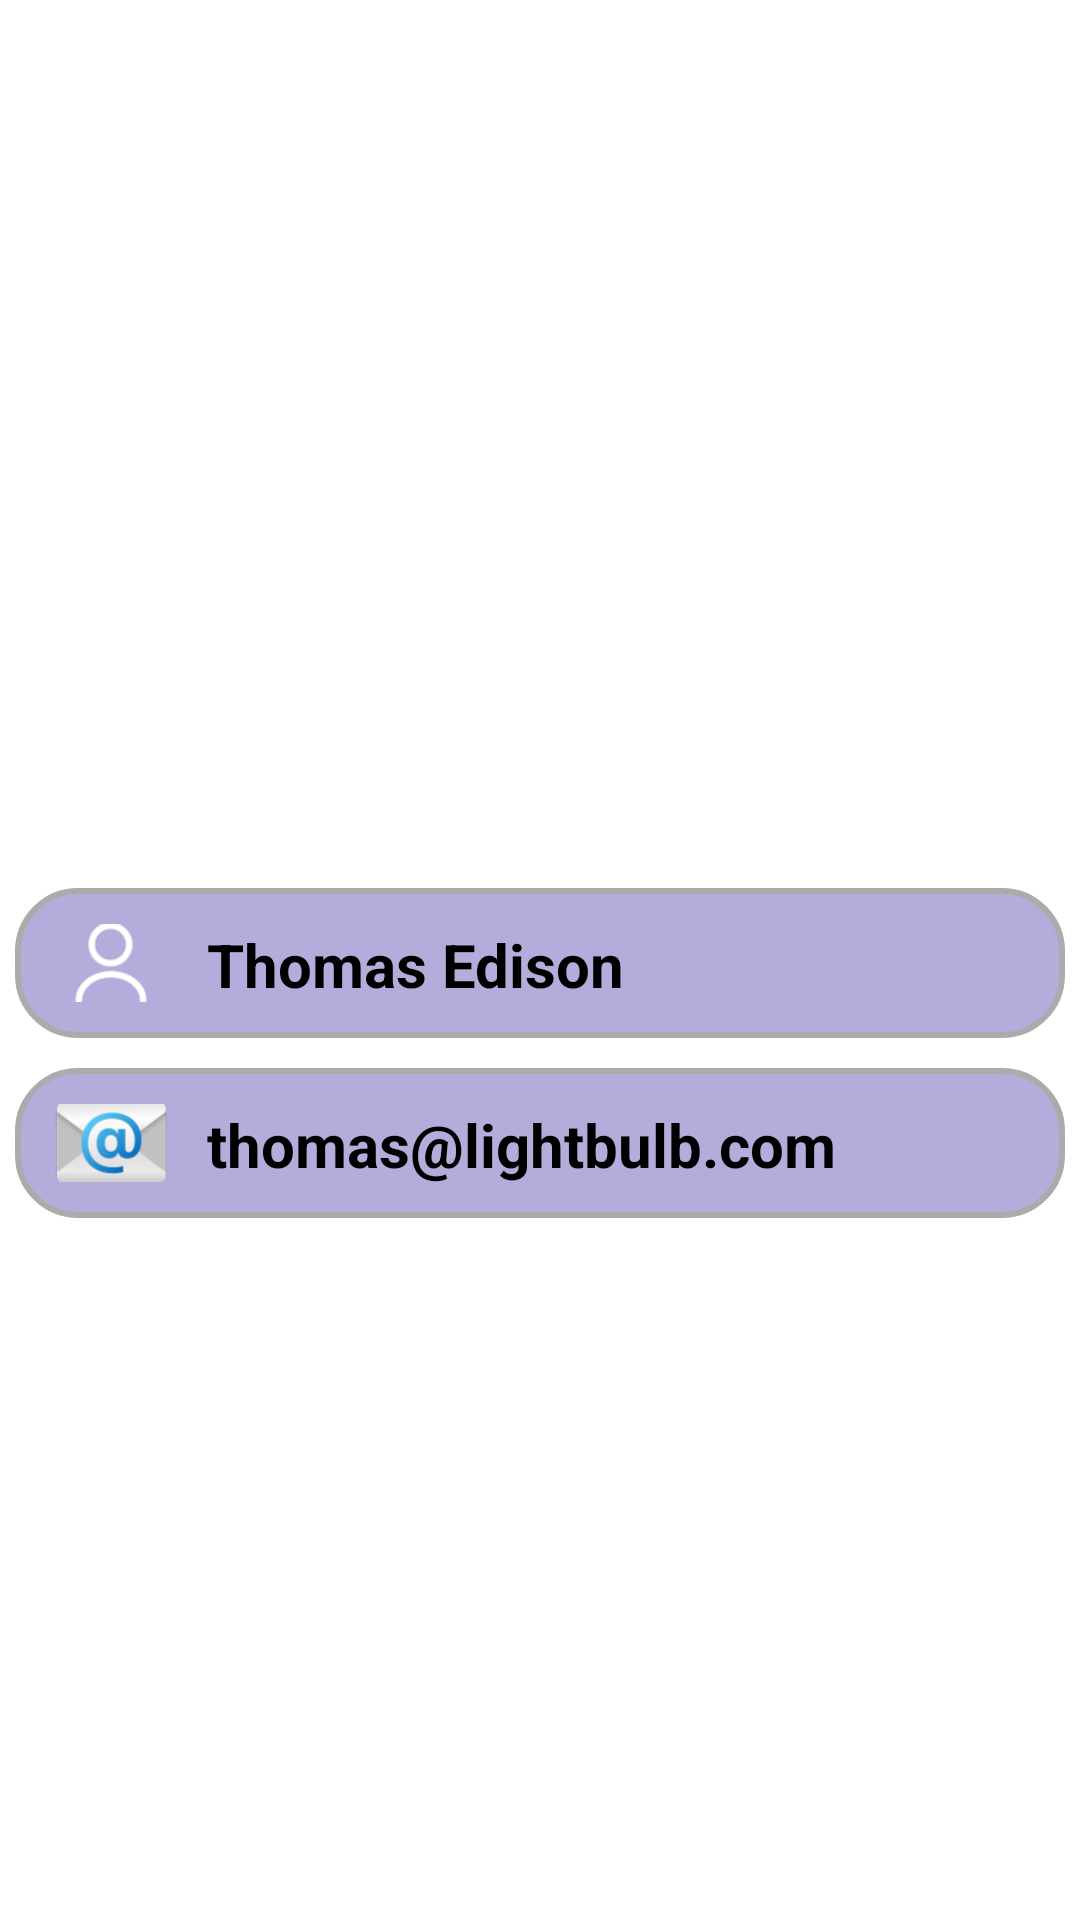

Named icons in this screenshot (1080×1920) and their bounding boxes, (x1, y1, x2, y2):
email: (56, 1104, 166, 1182)
